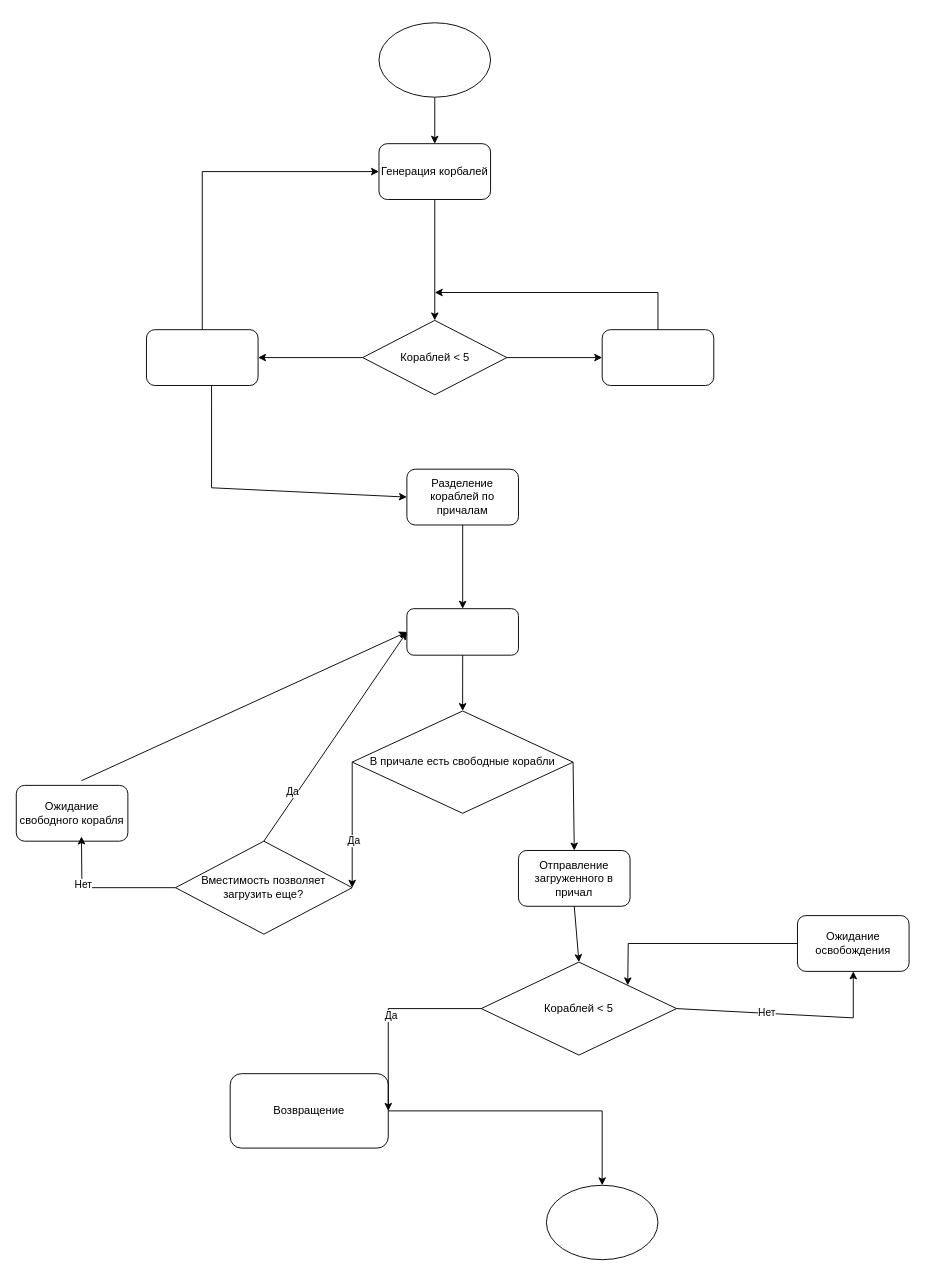
The diagram is 925 pixels wide and 1276 high, and some of its shapes have lost their labels. Here are the shapes that lost their labels. From the top down, the centre of each, then its label:
pixel 434 59: Начало
pixel 202 357: Создать корабль
pixel 657 357: Ожидать до освобождения канала
pixel 462 631: Загрузка корабля в конкретном причале
pixel 601 1222: Конец
